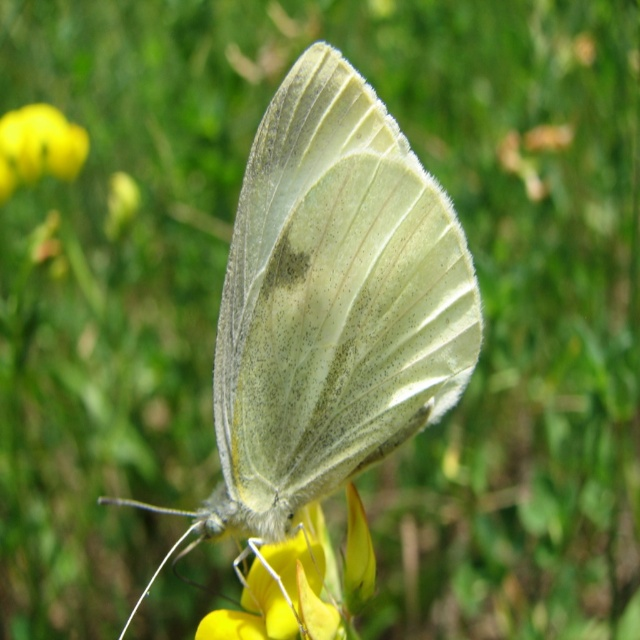Butterfly: (98, 42, 485, 640)
